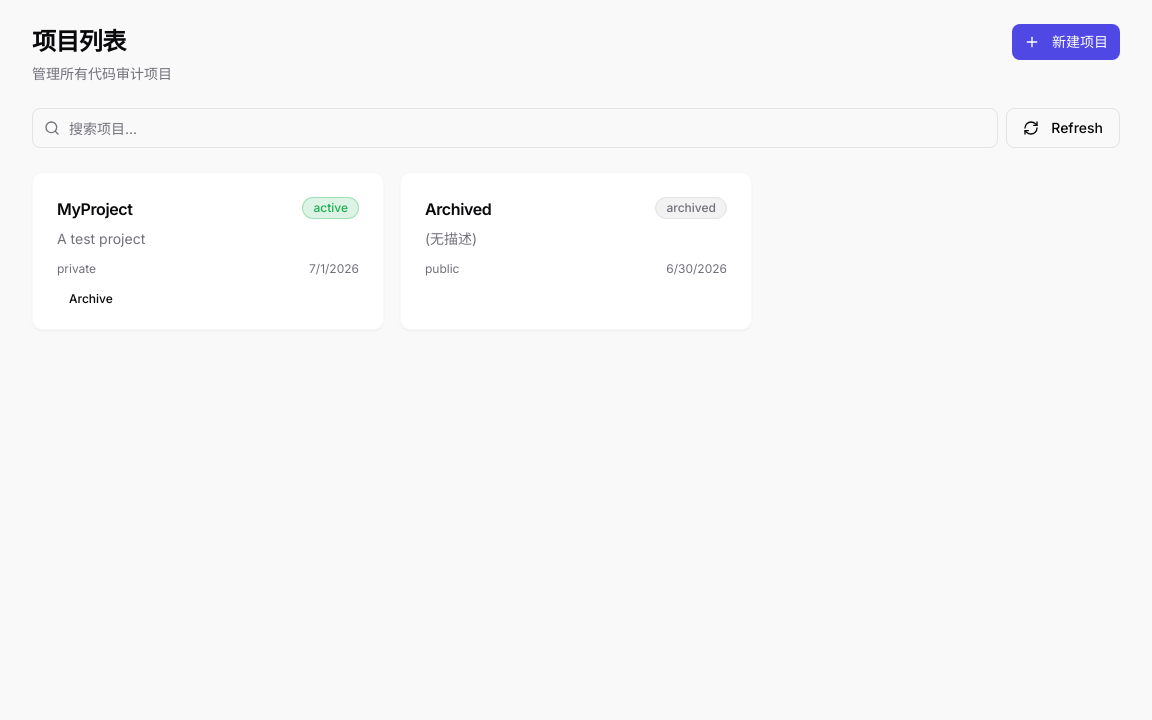
it: ProjectsPage › 新建 Dialog 可打开
The width and height of the screenshot is (1152, 720).
Expected: the text "MyProject" is shown, [57,197,132,221]
Step 1. Click the button "新建项目" → click(1066, 42), box [1012,24,1120,60]
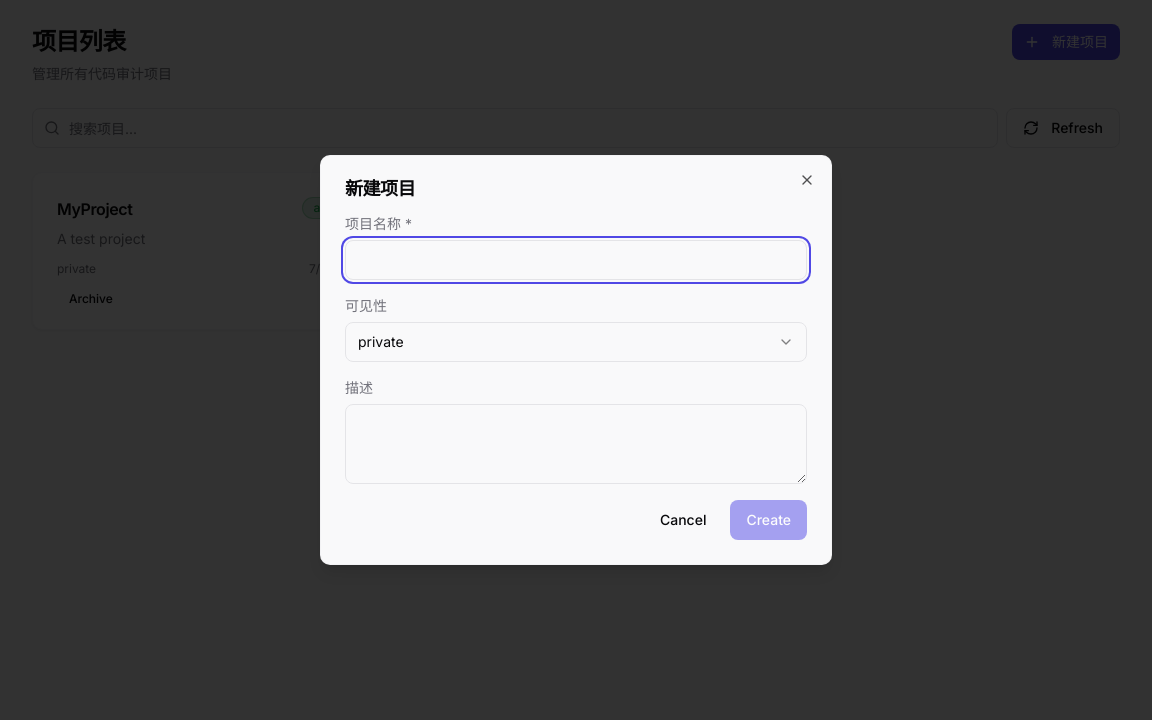
Expected: the dialog is shown, [320,155,832,565]
